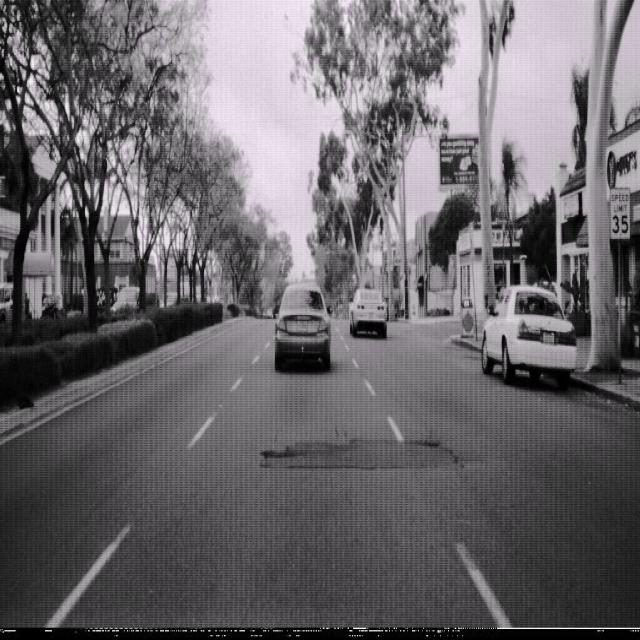speedLimit35: (609, 185, 631, 240)
